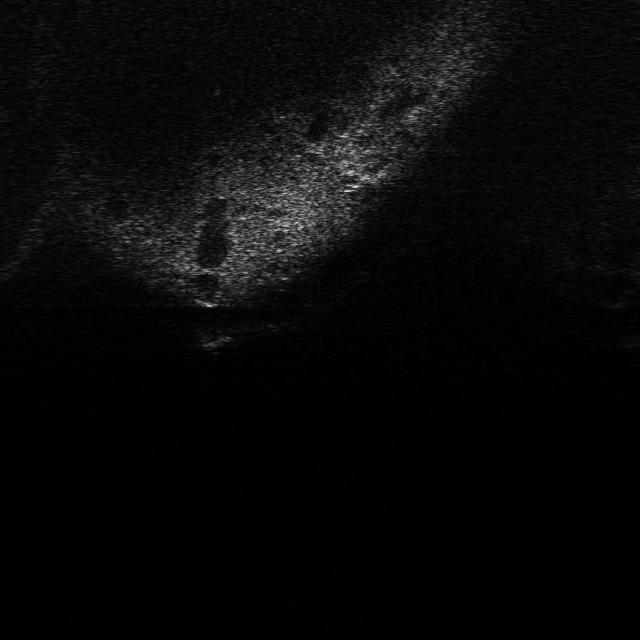cylinder: (191, 323, 233, 354)
